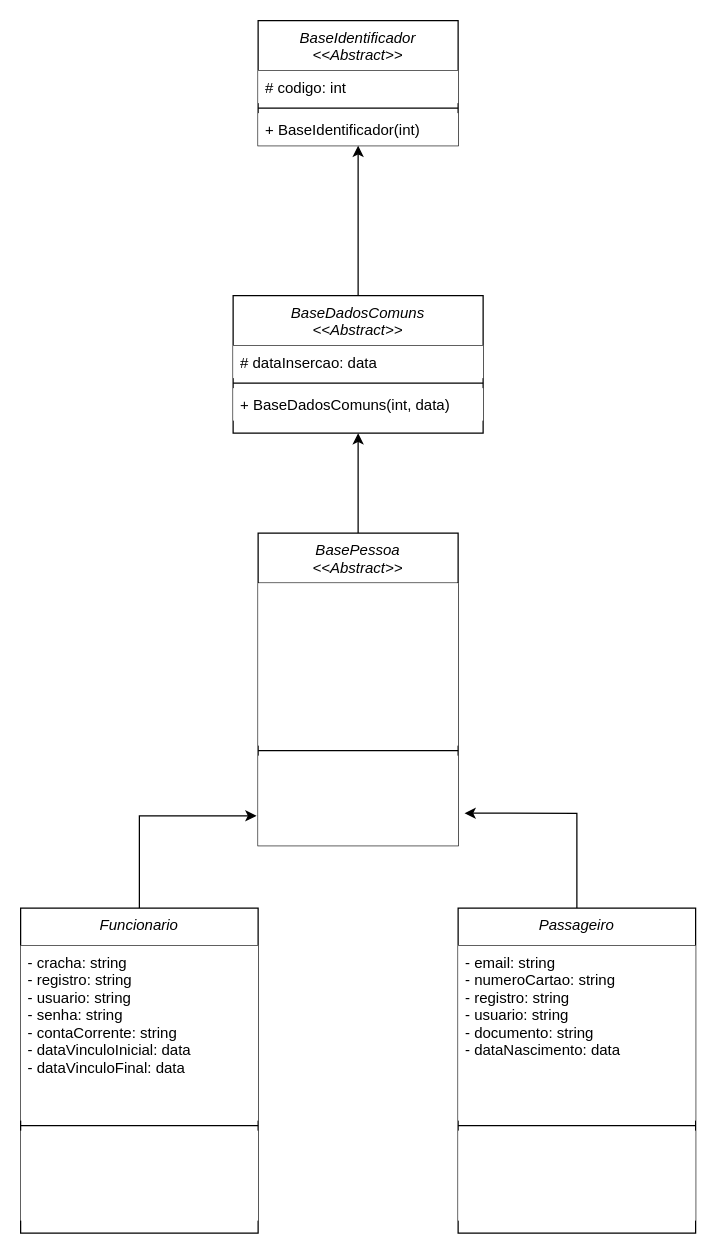
Some shapes in this 716 by 1254 pixel diagram are drawn without their labels. The centre of each missing label's shape, as x and y in pixels:
# nome: string # telefone : string: (358,663)
+ BasePessoa (int, data, string, string): (358,800)
+ Funcionario (..., data, data): (139,1175)
+ Passageiro (...,string, data): (576,1175)
